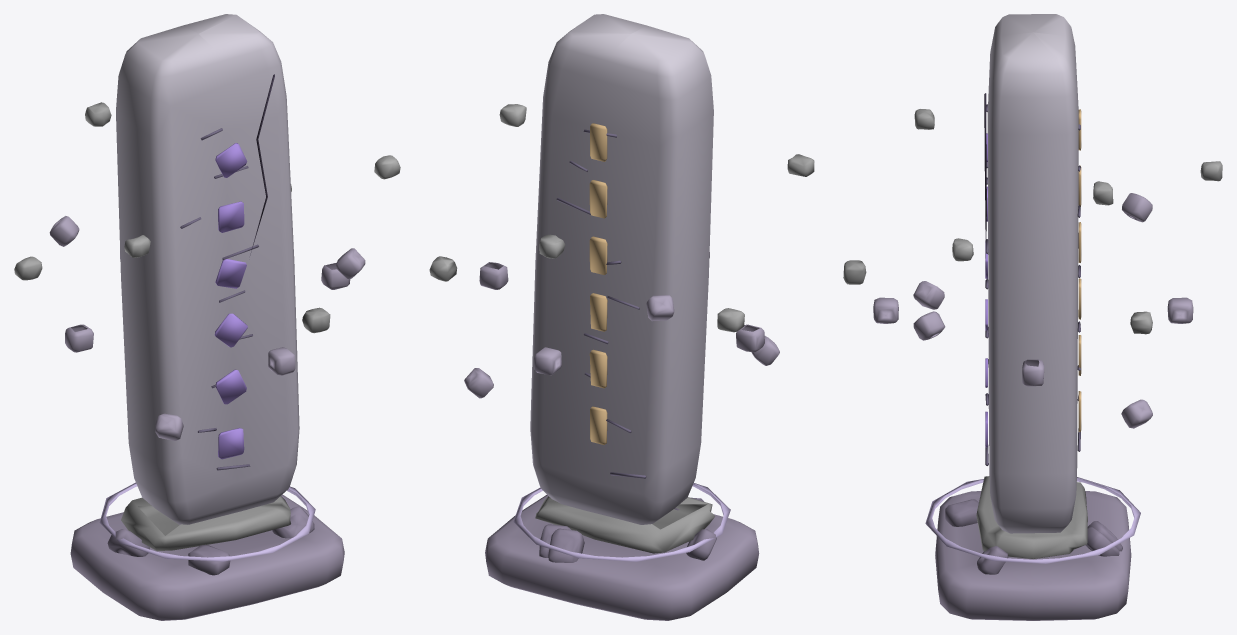
Rendered from monolith.glb.
3 views of the same model, side by side, from view 1: azimuth 30°, elevation 25°; view 2: azimuth 150°, elevation 25°; view 3: azimuth 270°, elevation 25° (orthographic).
Visible parts, largest first — view 1: monolith; view 2: monolith; view 3: monolith.
Part boxes in pixels (x1=…): monolith: x1=14, y1=14, x2=400, y2=620; monolith: x1=429, y1=14, x2=814, y2=620; monolith: x1=843, y1=14, x2=1222, y2=620.
Size of the model in its own units: 2.17 by 3.65 by 2.32.
